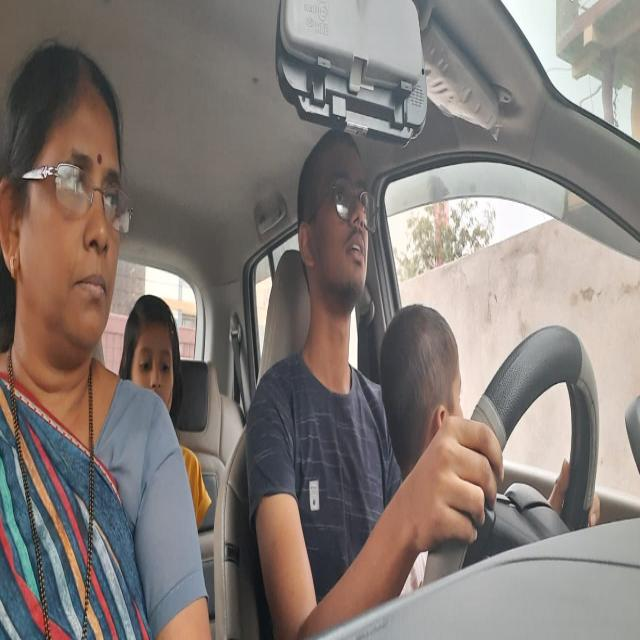child: (379, 298, 463, 438)
person: (2, 37, 128, 397), (294, 129, 375, 306), (126, 289, 179, 417)
